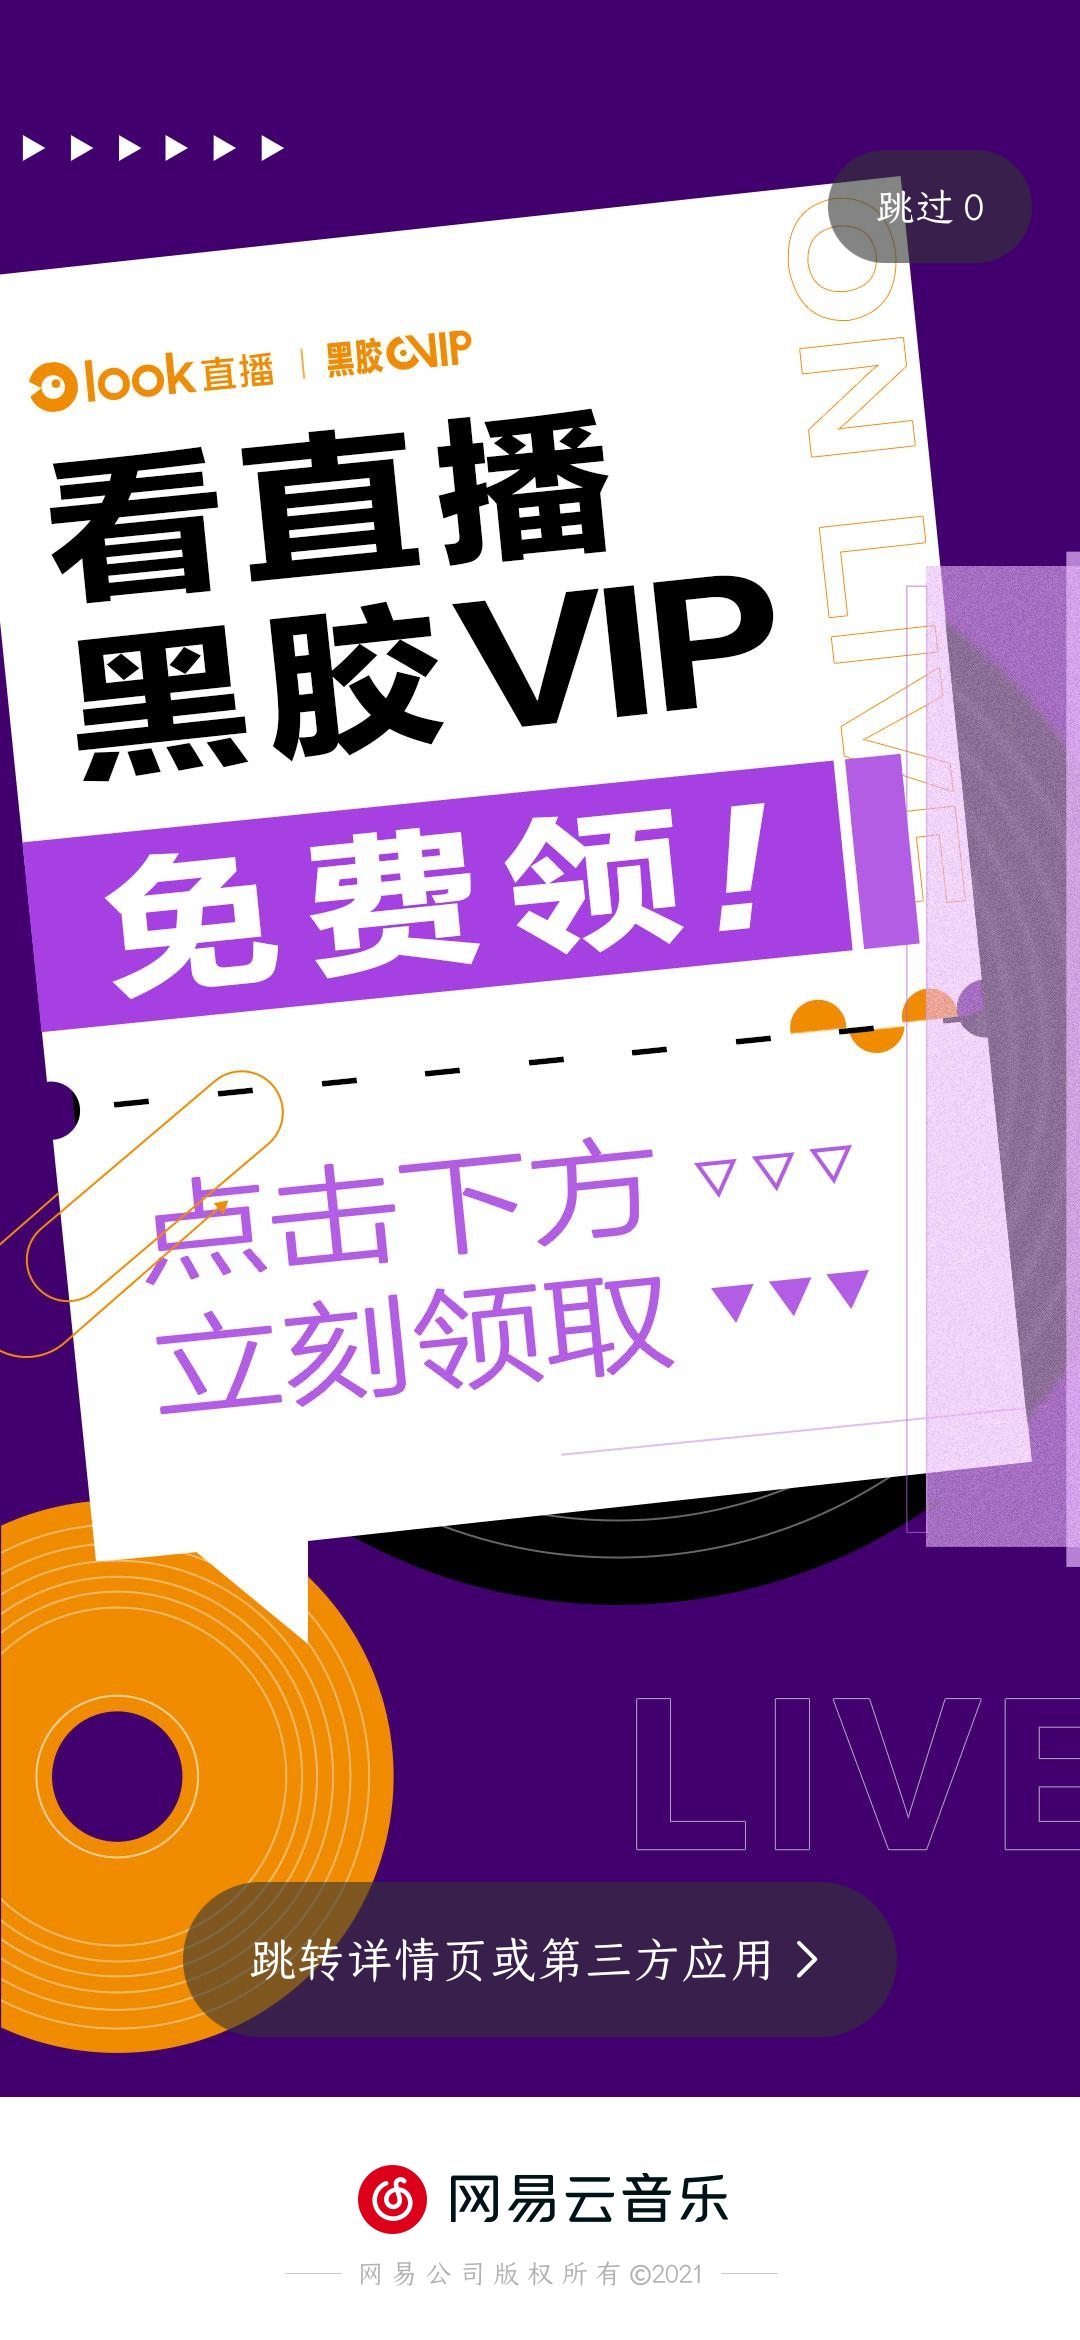skip: (855, 163, 1001, 251)
